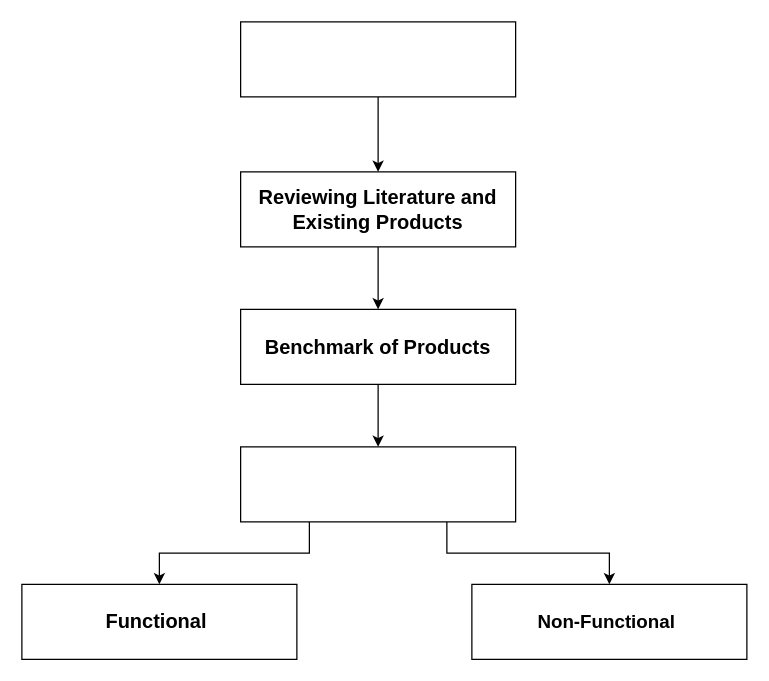
This 769x681 diagram has some shape labels left out. The shapes that lost their labels are listed below. From the top down, each one's box as (x1, y1, x2, y2) in pixels, then its label:
(239, 21, 516, 97): Identify the problem
(239, 446, 516, 522): Features List
